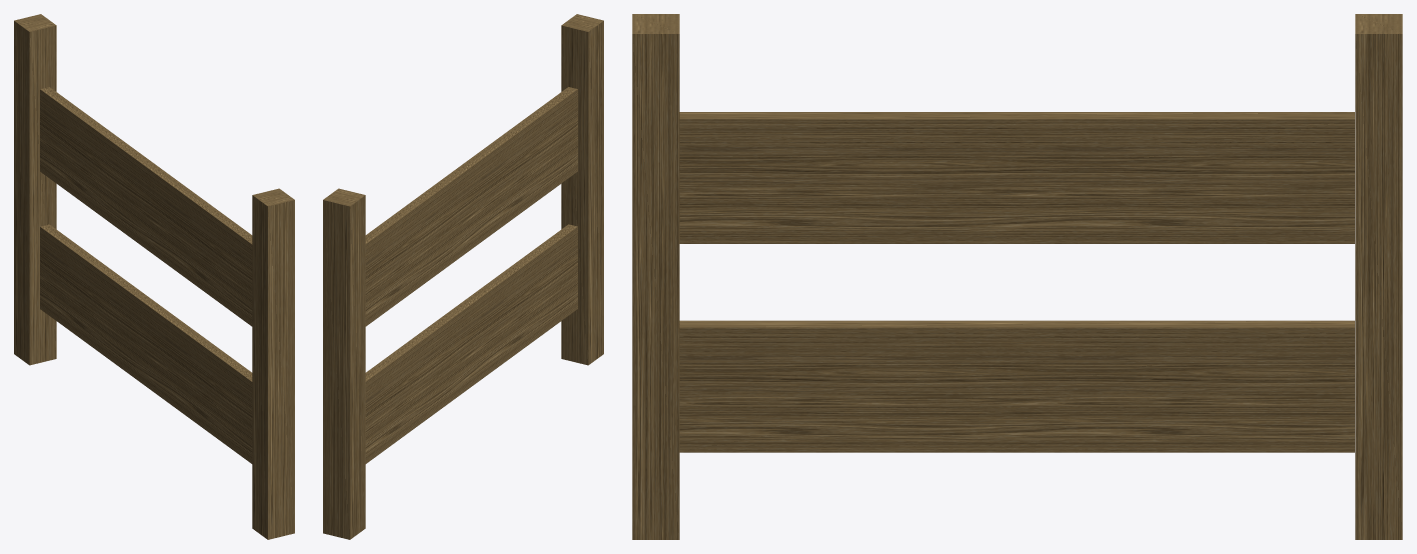
File: fence.obj
The picture shows the model from 3 angles, left to right: view 1: azimuth 30°, elevation 25°; view 2: azimuth 150°, elevation 25°; view 3: azimuth 270°, elevation 25°; orthographic projection. The views are drawn at different scales.
Visible parts, largest first — view 1: Cube.001_Cube.006; view 2: Cube.001_Cube.006; view 3: Cube.001_Cube.006.
Part boxes in pixels (x1,y1,x2,y2): Cube.001_Cube.006: [14, 14, 294, 539]; Cube.001_Cube.006: [323, 14, 603, 539]; Cube.001_Cube.006: [632, 14, 1402, 539].
Bounding box in the file's own units: 0.3155 × 3.72 × 5.14.
2 materials, 2 textured.
